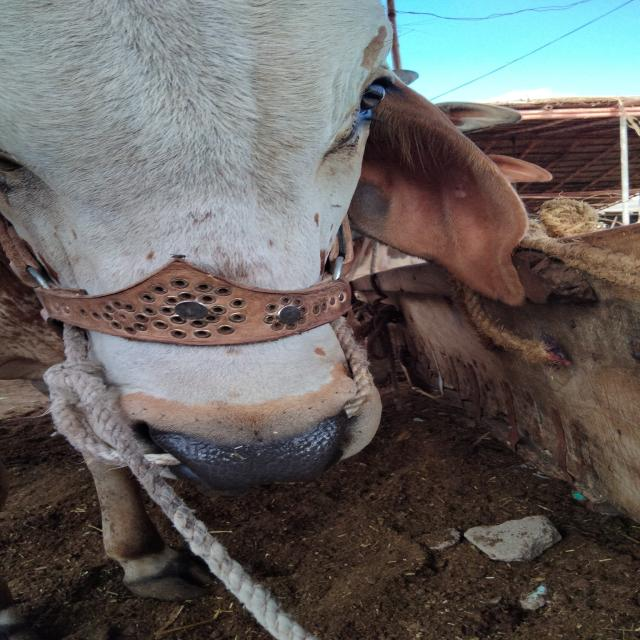muzzles: (129, 408, 363, 493)
